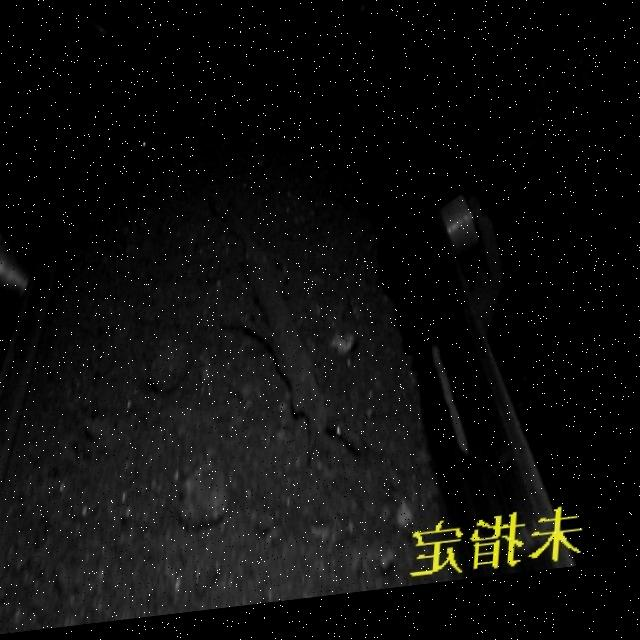bolt: (234, 214, 354, 468)
large_sized_coal: (184, 465, 243, 534)
